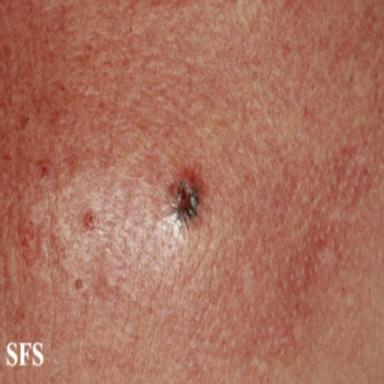basal-cell-carcinoma: (168, 162, 213, 229)
